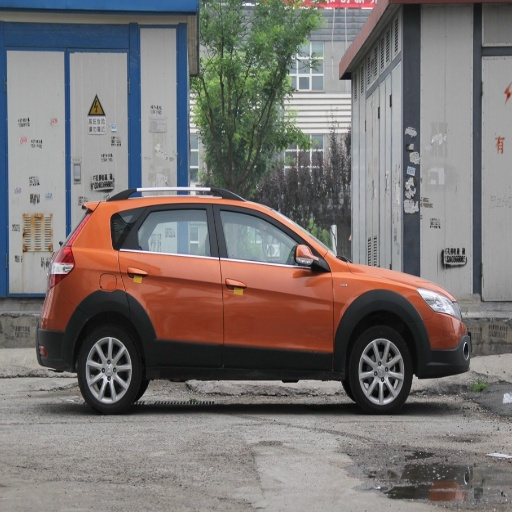back_right_door: (121, 203, 222, 366)
front_right_door: (216, 203, 333, 365)
